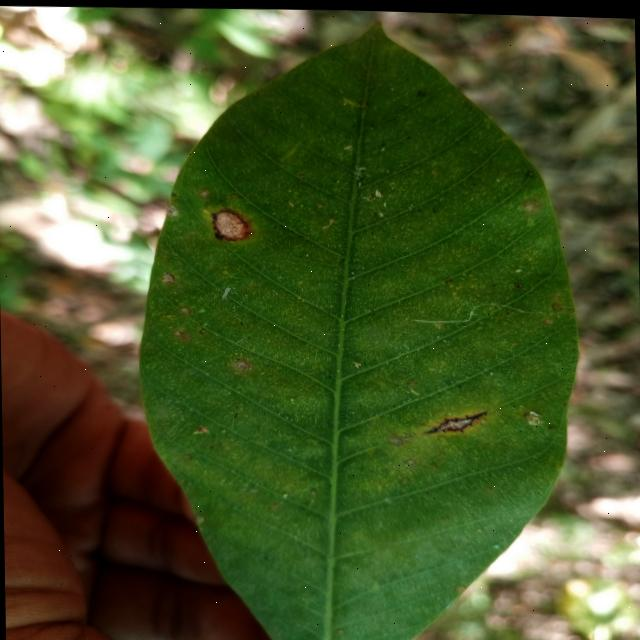Corynespora: (425, 406, 487, 432)
Leaf-Blight: (216, 210, 248, 239)
